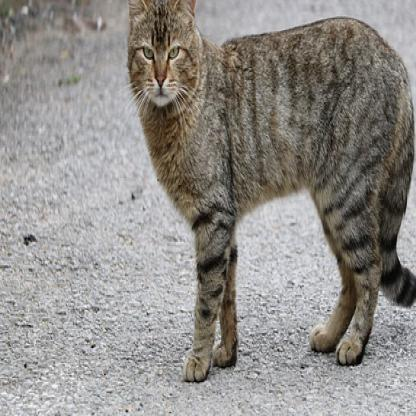cat: (127, 0, 416, 385)
